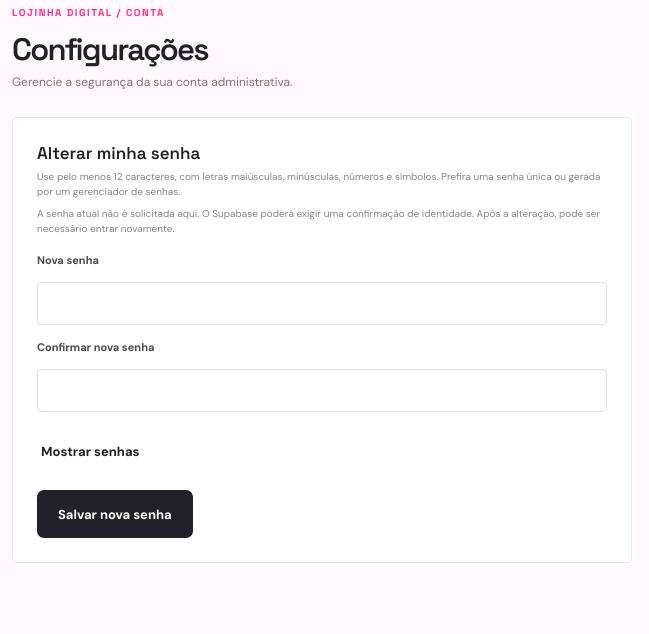
Test: alteração de senha administrativa › rejeita confirmação diferente
Type "Teste-Seguro123!" into the password field labelled "Nova senha" at (322, 304), box [37,282,607,325]
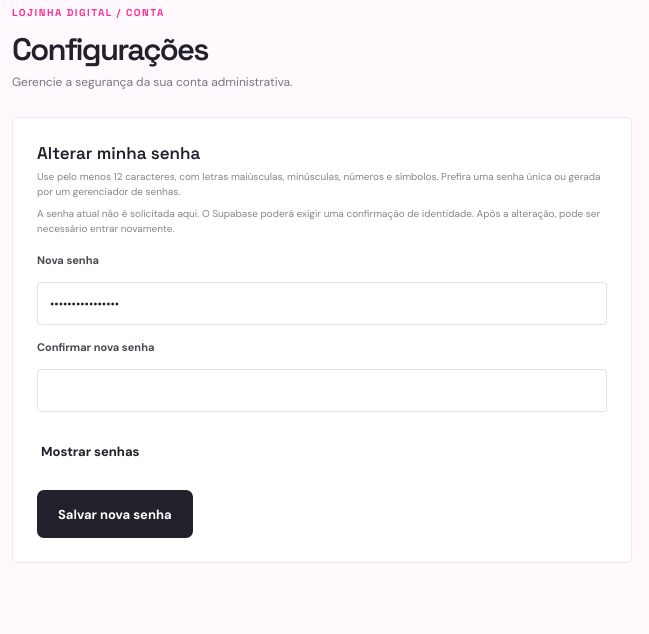
Type "Outra-Segura123!" into the password field labelled "Confirmar nova senha" at (322, 390), box [37,369,607,412]
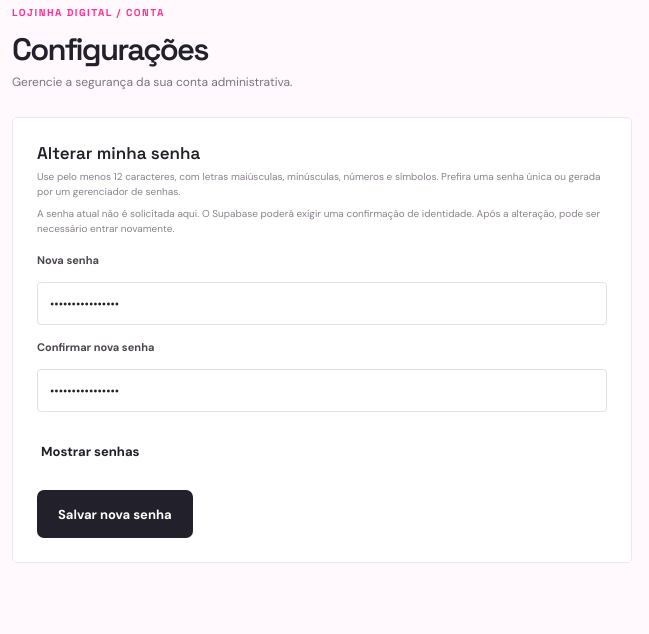
Submit the form named "Salvar nova senha"
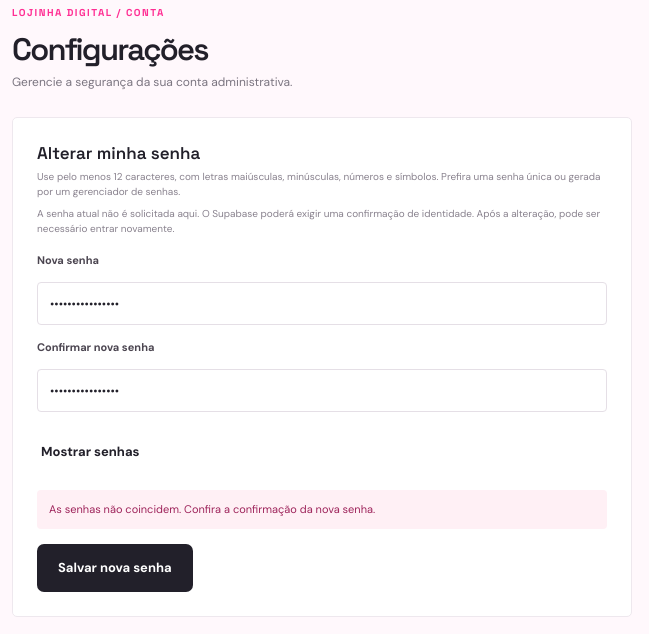
Now the message shows "As senhas não coincidem", box [49,502,375,516]
